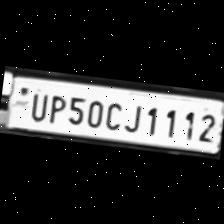0: (82, 94, 106, 128)
1: (139, 100, 162, 134), (157, 104, 180, 138), (176, 106, 198, 140)
2: (193, 108, 217, 143)
5: (62, 90, 86, 124)
C: (102, 96, 124, 130)
J: (119, 98, 144, 133)
P: (44, 89, 67, 123)
U: (24, 86, 48, 121)
